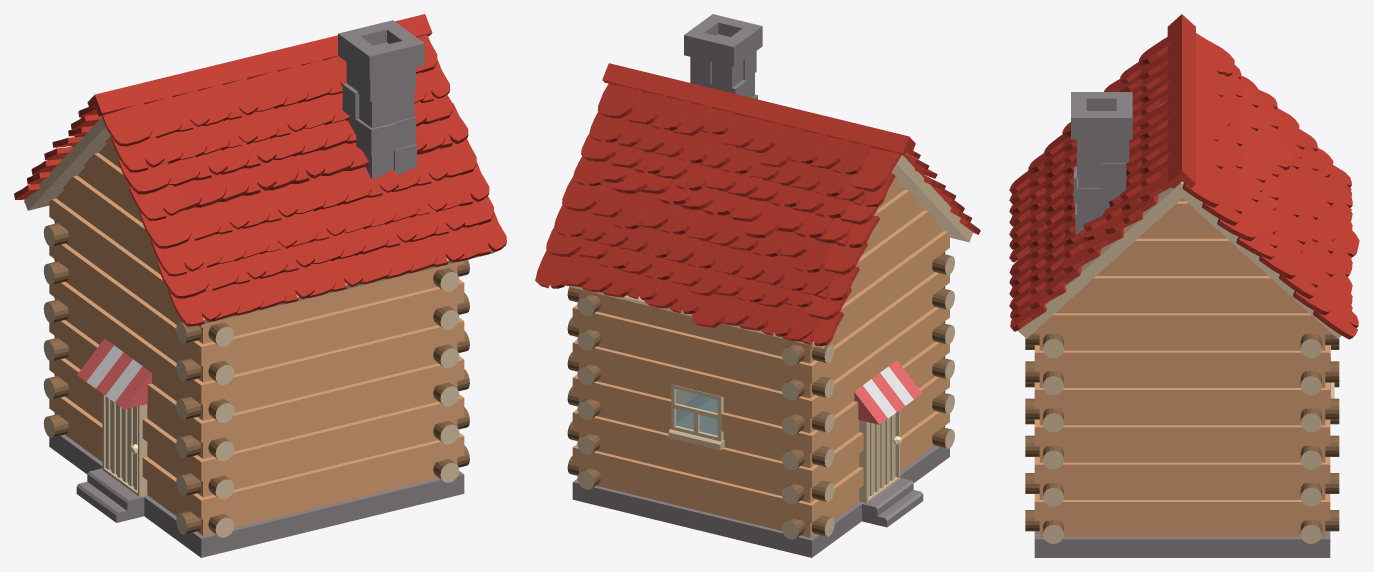
File: Casa1.fbx
3 views of the same model, side by side, from view 1: azimuth 30°, elevation 25°; view 2: azimuth 150°, elevation 25°; view 3: azimuth 270°, elevation 25° (orthographic). The views are drawn at different scales.
Parts seen in each view (by area): view 1: Cube, PUERTA; view 2: Cube, PUERTA; view 3: Cube.
Boxes of the visible parts, x1,y1,x2,y2 form: Cube: (14, 14, 506, 557); PUERTA: (102, 394, 147, 496); Cube: (535, 14, 980, 557); PUERTA: (859, 410, 900, 503); Cube: (1009, 14, 1359, 557).
Bounding box in the file's own units: 3496 × 4467 × 3298.
